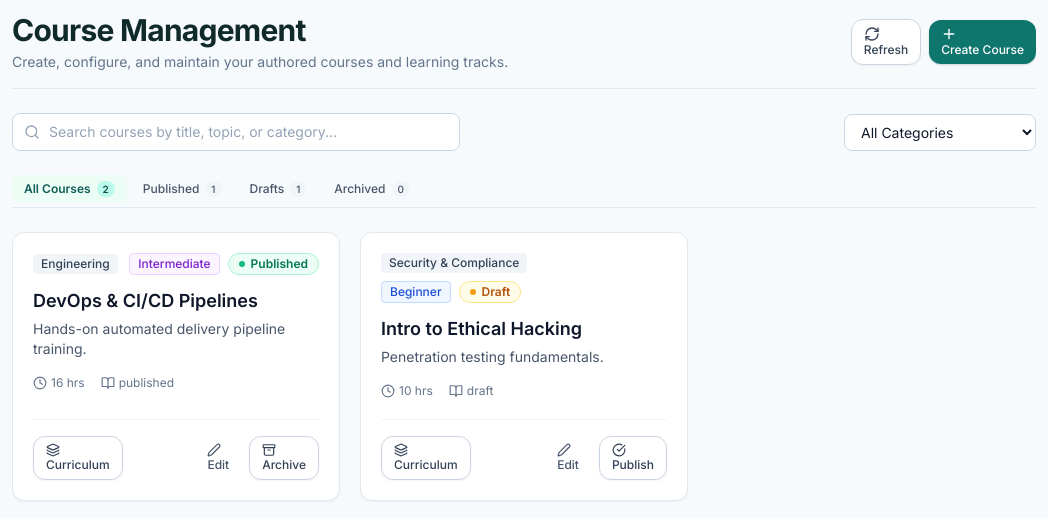
Test: TrainerCoursesPage › searches courses by keyword
The image size is (1048, 518).
Expected: the heading "DevOps & CI/CD Pipelines" is shown, [33,290,258,311]
Type "Ethical" into the field labelled "Search courses by title, topic, or category...". click: (236, 132)
box: [12,113,460,151]
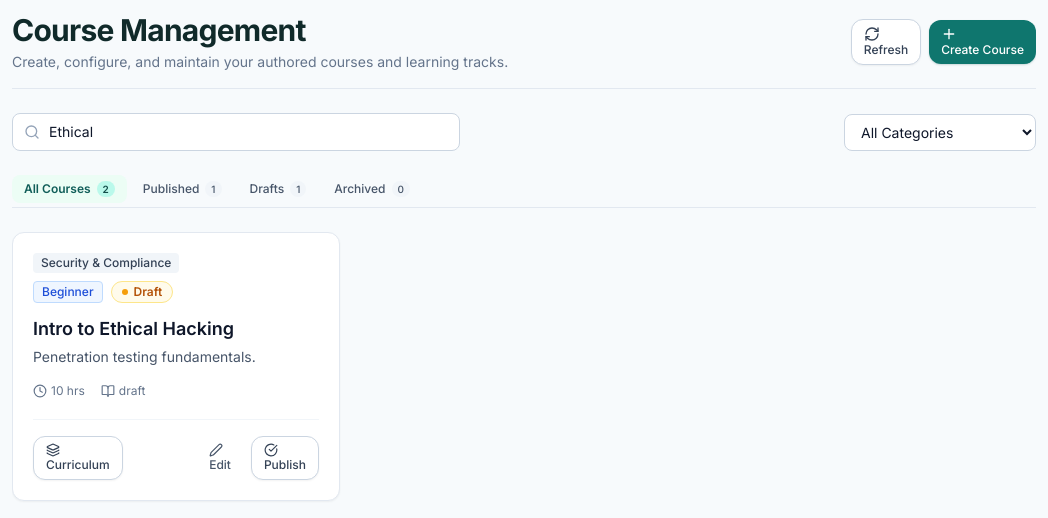
Expected: the heading "Intro to Ethical Hacking" is shown, [33,318,234,339]
Now the heading "DevOps & CI/CD Pipelines" is gone
